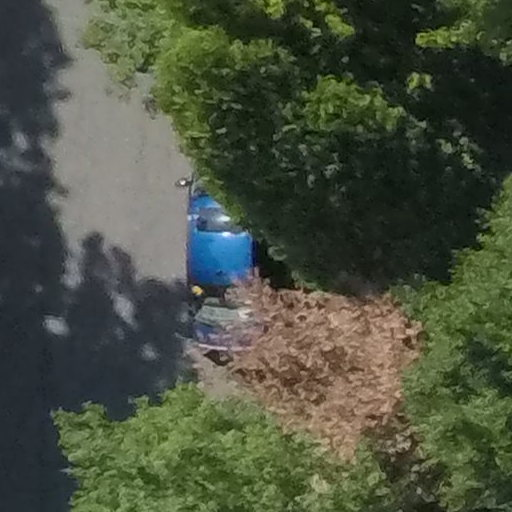car: (138, 136, 318, 361)
